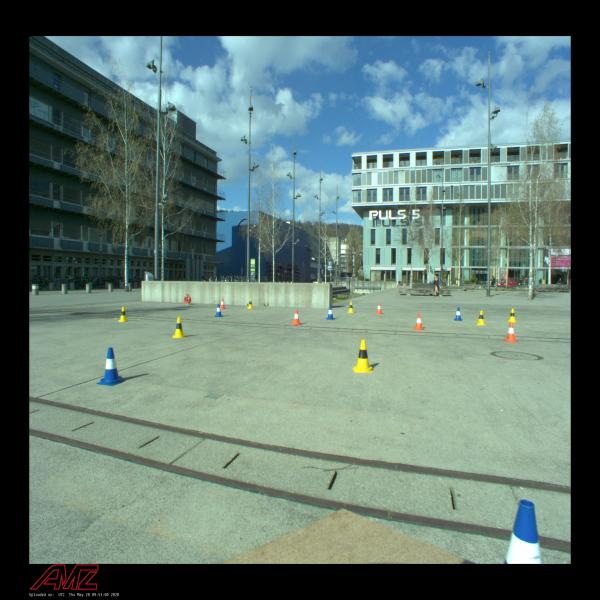blue_cone: (96, 347, 126, 386), (326, 306, 334, 320), (454, 307, 462, 321), (215, 304, 223, 317)
orange_cone: (504, 322, 518, 342), (414, 314, 424, 330), (292, 310, 301, 326), (376, 302, 383, 314), (220, 299, 226, 309)
yellow_cone: (353, 340, 373, 372), (171, 316, 186, 338), (118, 307, 128, 322), (476, 310, 486, 325), (508, 308, 517, 323), (348, 301, 354, 313), (248, 298, 254, 309)
